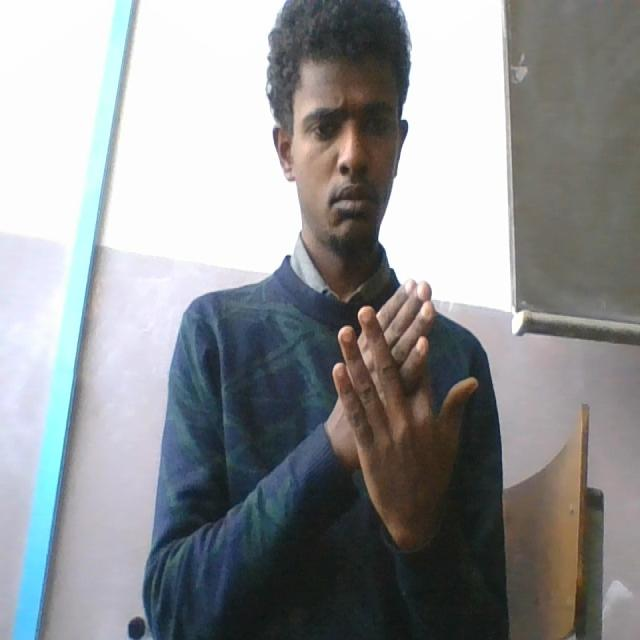bekul: (324, 272, 487, 566)
